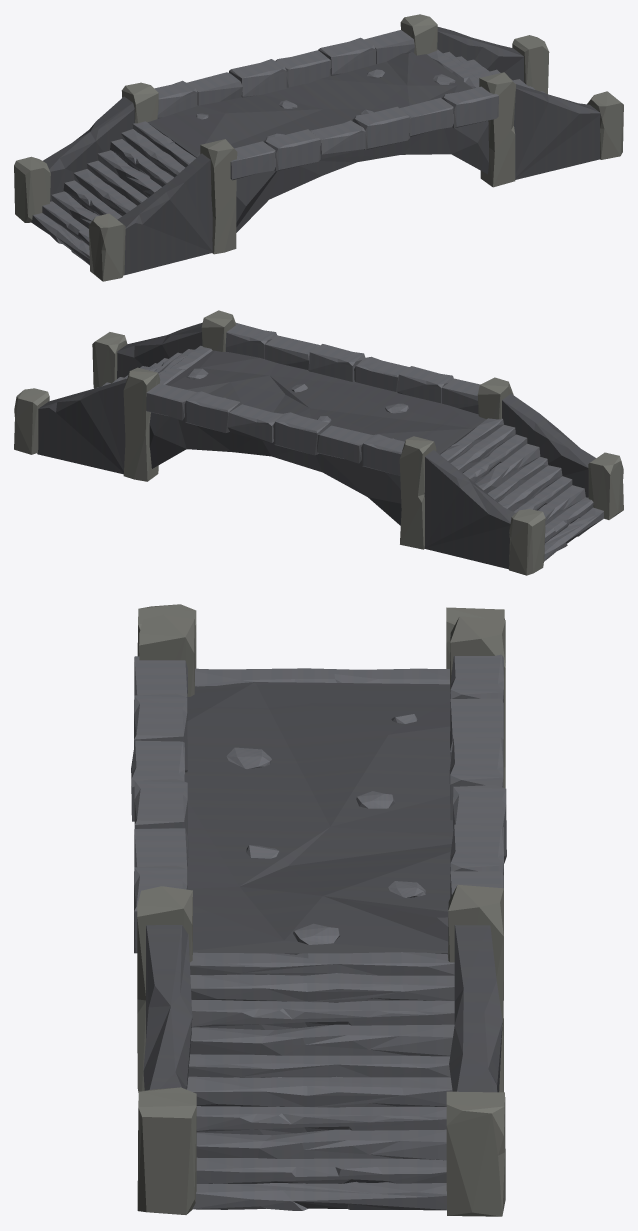
File: Bridge_2.fbx
3 views of the same model, one above another, from view 1: azimuth 30°, elevation 25°; view 2: azimuth 150°, elevation 25°; view 3: azimuth 270°, elevation 25° (orthographic). The views are drawn at different scales.
Parts seen in each view (by area): view 1: polySurface10248; view 2: polySurface10248; view 3: polySurface10248.
Part boxes in pixels (box(x1,y1,x2,y2)): polySurface10248: box(14, 14, 623, 281); polySurface10248: box(14, 310, 623, 575); polySurface10248: box(131, 604, 506, 1216).
Size of the model in its own units: 1133 by 211 by 353.
